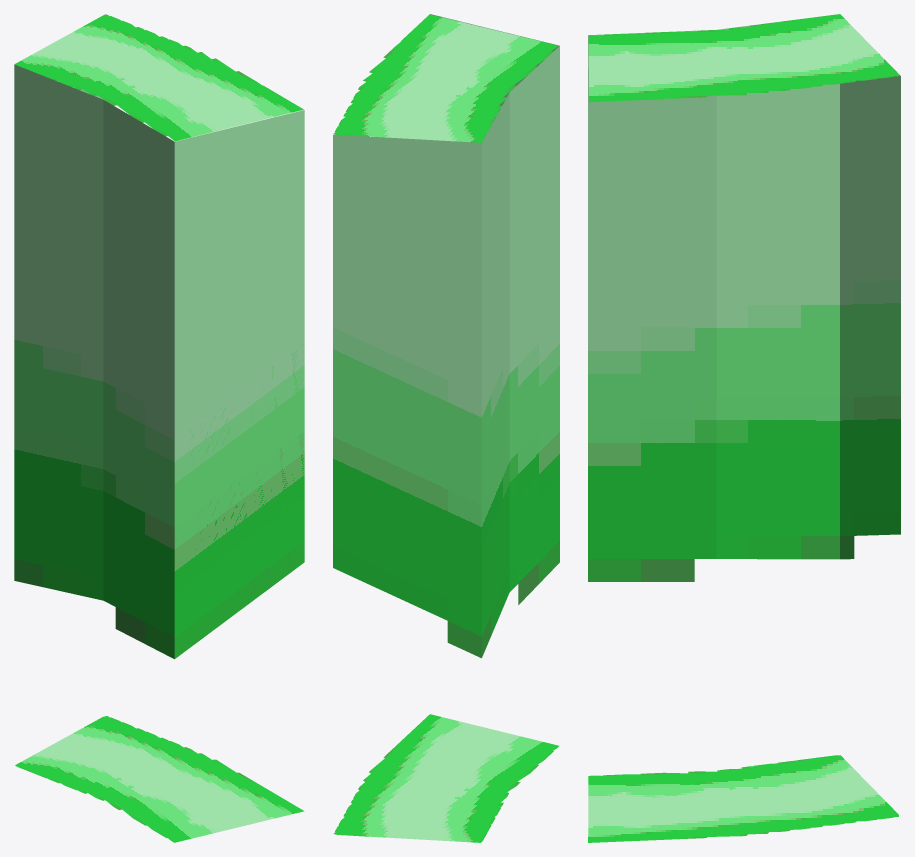
The model's file is 16green.fbx.
The picture shows the model from 3 angles, left to right: view 1: azimuth 30°, elevation 25°; view 2: azimuth 150°, elevation 25°; view 3: azimuth 270°, elevation 25°; orthographic projection. The views are drawn at different scales.
Parts seen in each view (by area): view 1: Cylinder; view 2: Cylinder; view 3: Cylinder.
Part boxes in pixels (x1=…): Cylinder: x1=14, y1=14, x2=304, y2=842; Cylinder: x1=333, y1=14, x2=559, y2=842; Cylinder: x1=588, y1=14, x2=900, y2=842.
Size of the model in its own units: 25.55 by 100 by 38.27.
Materials: 1 (1 with a texture image).
